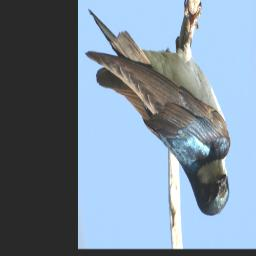Swallow: (84, 0, 231, 216)
